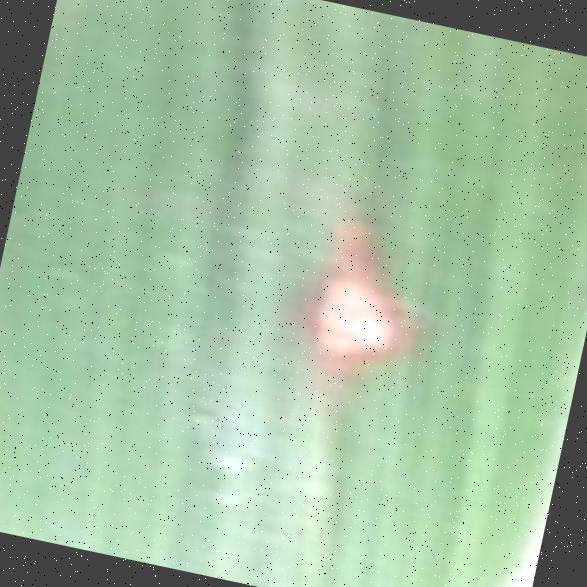Leaf_smut: (266, 184, 464, 440)
